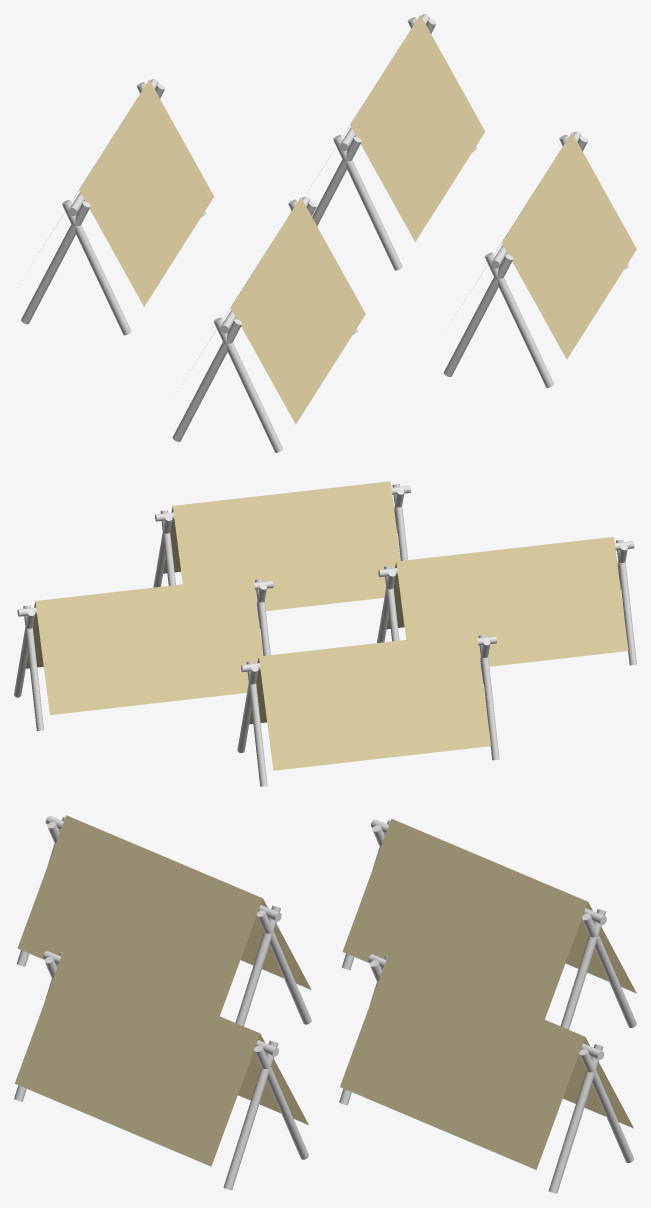
File: boneTent.glb
3 views of the same model, one above another, from view 1: azimuth 30°, elevation 25°; view 2: azimuth 150°, elevation 25°; view 3: azimuth 270°, elevation 25° (orthographic). The views are drawn at different scales.
Parts seen in each view (by area): view 1: Plane.001, Plane.002, Plane, Plane.003, Cylinder.001, Cylinder.016, Cylinder.011, Cylinder.006, Cylinder.012, Cylinder.002, Cylinder.007, Cylinder.017; view 2: Plane.002, Plane.003, Plane, Plane.001, Cylinder.014, Cylinder.019, Cylinder.012, Cylinder.002, Cylinder.018, Cylinder.013, Cylinder.008, Cylinder.003 (+4 smaller); view 3: Plane.001, Plane.003, Plane, Plane.002, Cylinder.008, Cylinder.018, Cylinder.009, Cylinder.019, Cylinder.004, Cylinder.014, Cylinder.003, Cylinder.013.
Boxes of the visible parts, x1,y1,x2,y2 form: Plane.001: (485, 132, 636, 359); Plane.002: (58, 80, 214, 306); Plane: (211, 197, 365, 424); Plane.003: (321, 15, 485, 241); Cylinder.001: (213, 317, 282, 452); Cylinder.016: (333, 135, 402, 270); Cylinder.011: (62, 200, 131, 335); Cylinder.006: (484, 252, 553, 387); Cylinder.012: (21, 201, 90, 324); Cylinder.002: (172, 319, 242, 441); Cylinder.007: (443, 254, 513, 376); Cylinder.017: (312, 137, 361, 225); Plane.002: (249, 632, 490, 770); Plane.003: (26, 576, 263, 714); Plane: (386, 537, 628, 666); Plane.001: (163, 481, 400, 610); Cylinder.014: (246, 661, 267, 786); Cylinder.019: (23, 605, 43, 730); Cylinder.012: (478, 634, 499, 760); Cylinder.002: (616, 539, 636, 665); Cylinder.018: (14, 610, 34, 697); Cylinder.013: (237, 666, 258, 752); Cylinder.008: (153, 515, 172, 587); Cylinder.003: (377, 571, 395, 642); Plane.001: (15, 950, 308, 1166); Plane.003: (340, 954, 633, 1169); Plane: (17, 815, 311, 1015); Plane.002: (342, 818, 636, 1019); Cylinder.008: (223, 1040, 278, 1190); Cylinder.018: (548, 1044, 603, 1193); Cylinder.009: (254, 1045, 308, 1159); Cylinder.019: (579, 1048, 634, 1162); Cylinder.004: (256, 910, 311, 1024); Cylinder.014: (582, 913, 636, 1027); Cylinder.003: (235, 905, 280, 1026); Cylinder.013: (560, 909, 605, 1029).
Bounding box in the file's own units: 2.71 × 0.6654 × 2.71.
